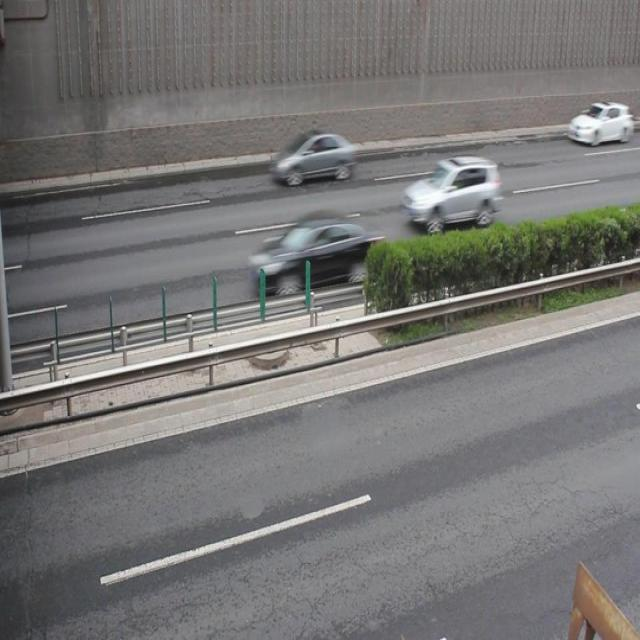car: (249, 209, 380, 301), (401, 151, 498, 232), (271, 125, 355, 186), (566, 99, 628, 150)
